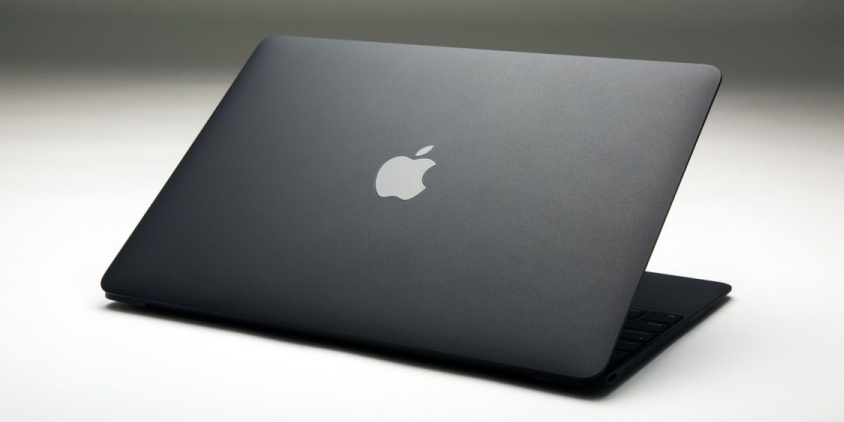apple: (355, 125, 451, 212)
